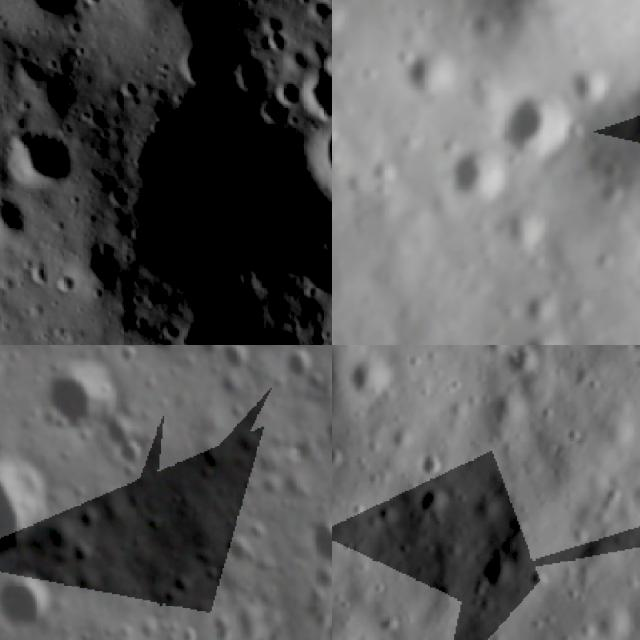crater: (26, 40, 332, 345), (0, 100, 100, 219), (491, 72, 582, 176), (32, 361, 124, 438), (290, 97, 332, 251), (0, 449, 56, 562), (438, 137, 520, 214), (334, 348, 413, 426), (287, 43, 332, 135), (0, 184, 49, 267), (0, 568, 55, 637), (562, 56, 622, 110), (400, 40, 452, 99), (288, 345, 332, 401), (217, 524, 266, 572), (517, 314, 589, 345), (502, 345, 547, 385), (115, 433, 153, 468), (304, 516, 332, 561), (209, 345, 251, 372), (332, 0, 357, 45), (316, 409, 332, 465), (117, 345, 141, 372)
